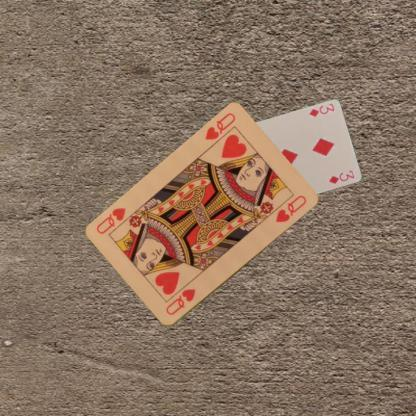3d: (306, 101, 336, 119)
Qh: (202, 110, 236, 142), (163, 286, 197, 317)
